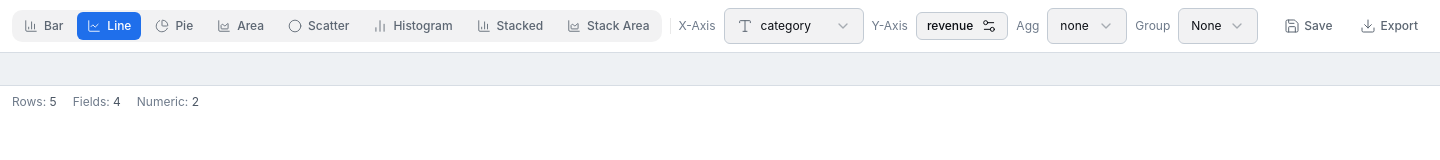
Test case: DataCharts › aggregation hidden for scatter chart
The image size is (1440, 160).
What coordinates should you click on to do the following:
click the button "Scatter"
I would click on:
 (319, 26)
Its box is [278,12,359,40].
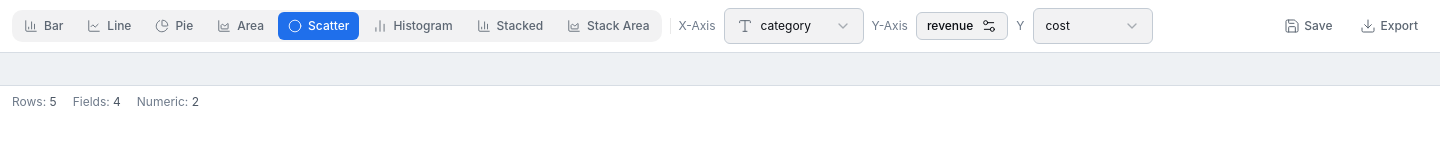
expect the text "Agg" is gone: met
